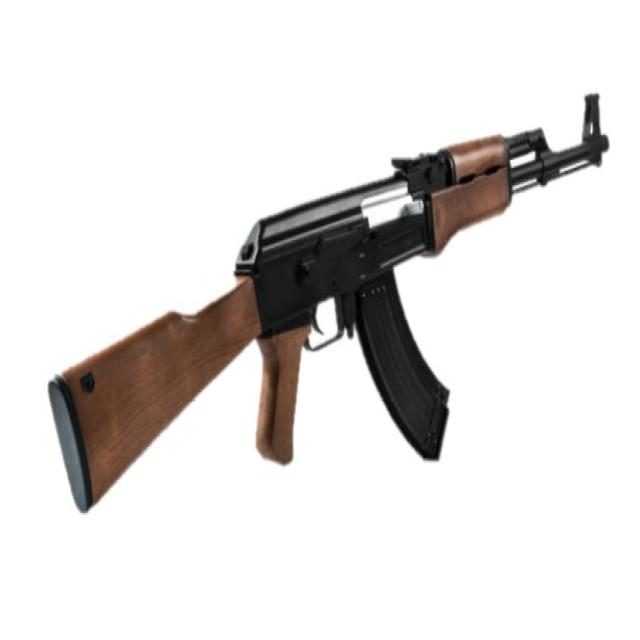rifle: (40, 90, 612, 532)
